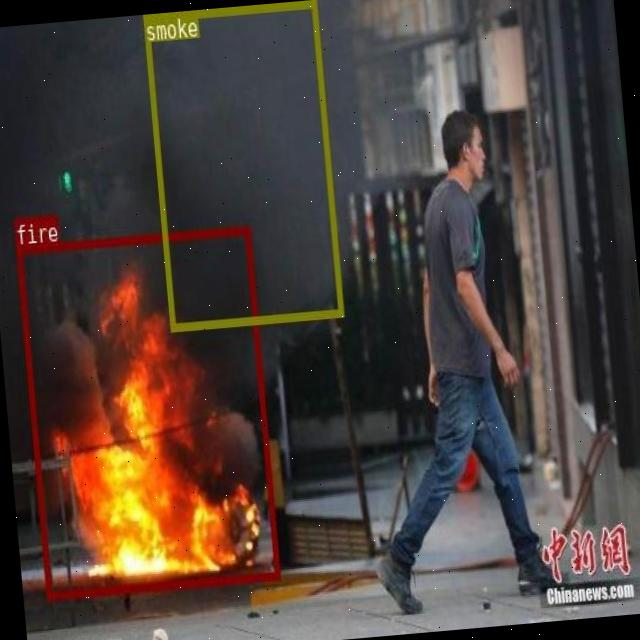fire: (15, 225, 278, 598)
smoke: (142, 0, 342, 329)
